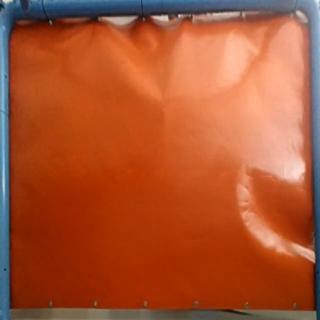Hit-hRxx: (150, 95, 165, 112)
